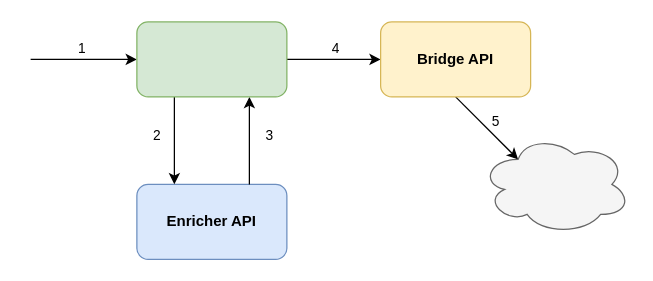
Image size: 653x281. Some labels were removed from this diagram. The shapes that lost their labels are listed below. From the top down, each one's centre as x and y in pixels, then its label:
point (211, 59): Automations API
point (555, 183): External API
